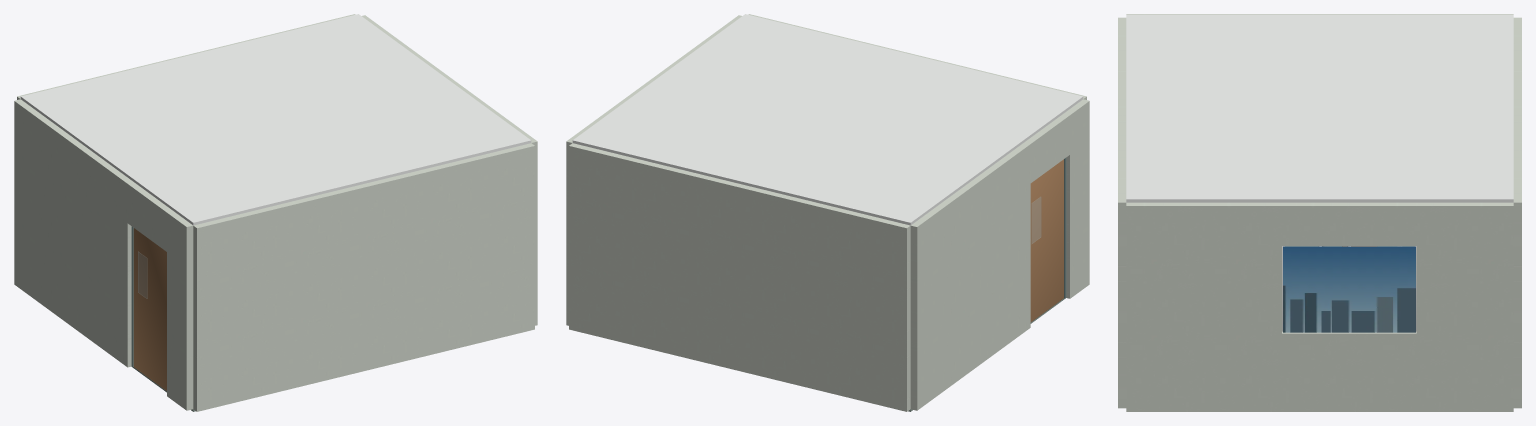
The picture shows the model from 3 angles, left to right: view 1: azimuth 30°, elevation 25°; view 2: azimuth 150°, elevation 25°; view 3: azimuth 270°, elevation 25°; orthographic projection. The views are drawn at different scales.
Parts seen in each view (by area): view 1: Wall_Front, Ceiling, Wall_Left, Door, Wall_Right, Wall_Back; view 2: Wall_Back, Ceiling, Wall_Left, Door, Wall_Right, Wall_Front; view 3: Ceiling, Wall_Right, Window_View, Wall_Back, Wall_Front, Wall_Left.
Boxes of the visible parts, x1,y1,x2,y2 form: Wall_Front: (193, 143, 534, 411); Ceiling: (20, 14, 531, 225); Wall_Left: (14, 99, 193, 410); Door: (133, 228, 166, 390); Wall_Right: (362, 15, 537, 325); Wall_Back: (17, 14, 355, 99); Wall_Back: (569, 143, 910, 411); Ceiling: (572, 14, 1083, 225); Wall_Left: (910, 99, 1089, 410); Door: (1030, 159, 1063, 322); Wall_Right: (566, 15, 741, 325); Wall_Front: (748, 14, 1086, 99); Ceiling: (1126, 14, 1513, 202); Wall_Right: (1126, 202, 1513, 411); Window_View: (1283, 246, 1415, 332); Wall_Back: (1513, 17, 1521, 408); Wall_Front: (1118, 17, 1126, 408); Wall_Left: (1126, 14, 1513, 14).
Size of the model in its own units: 5.4 by 2.78 by 4.8.
Materials: 112 (15 with a texture image).
